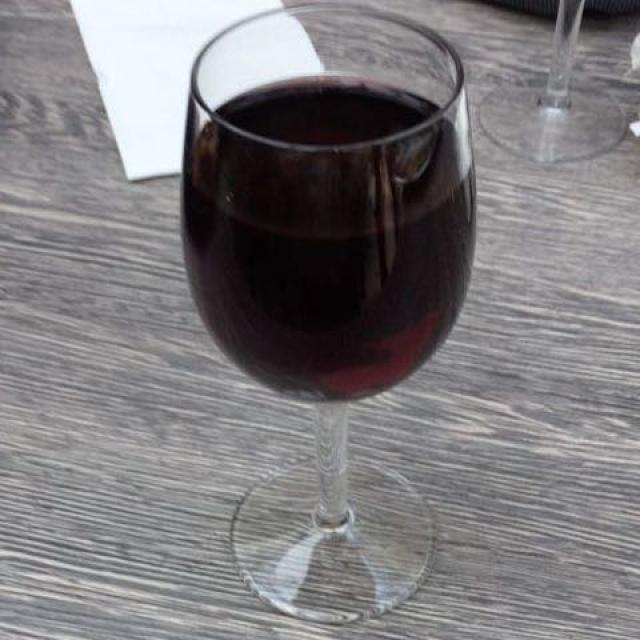wine: (181, 79, 473, 375)
